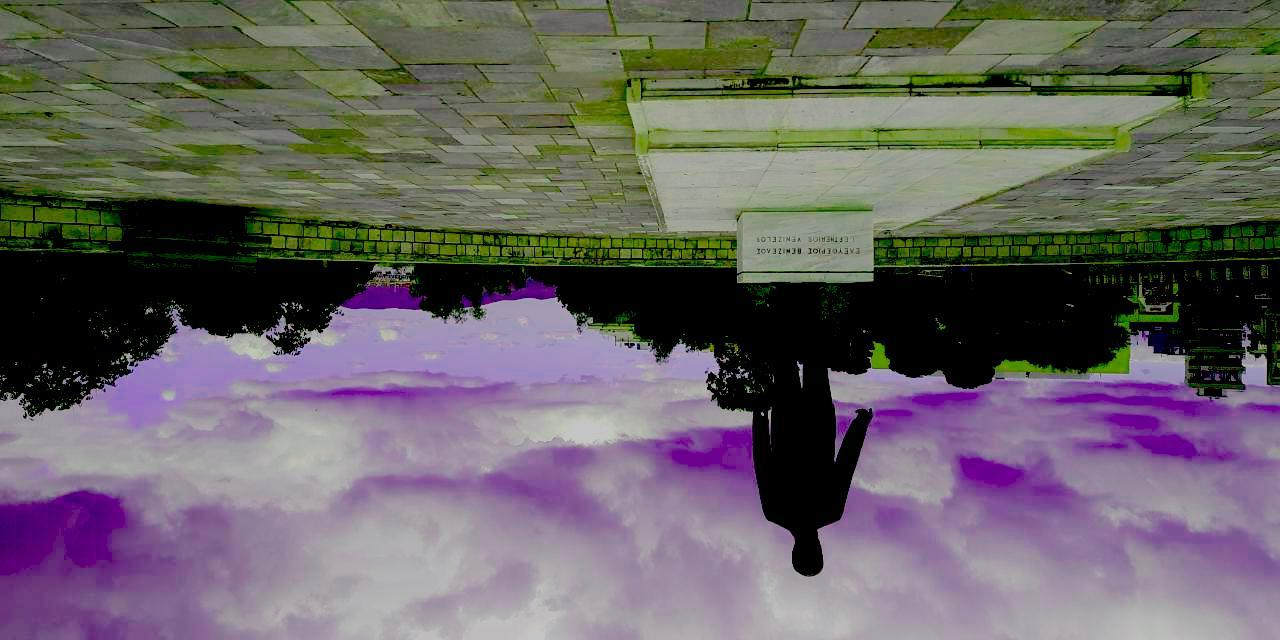Venizelos: (751, 283, 872, 579)
